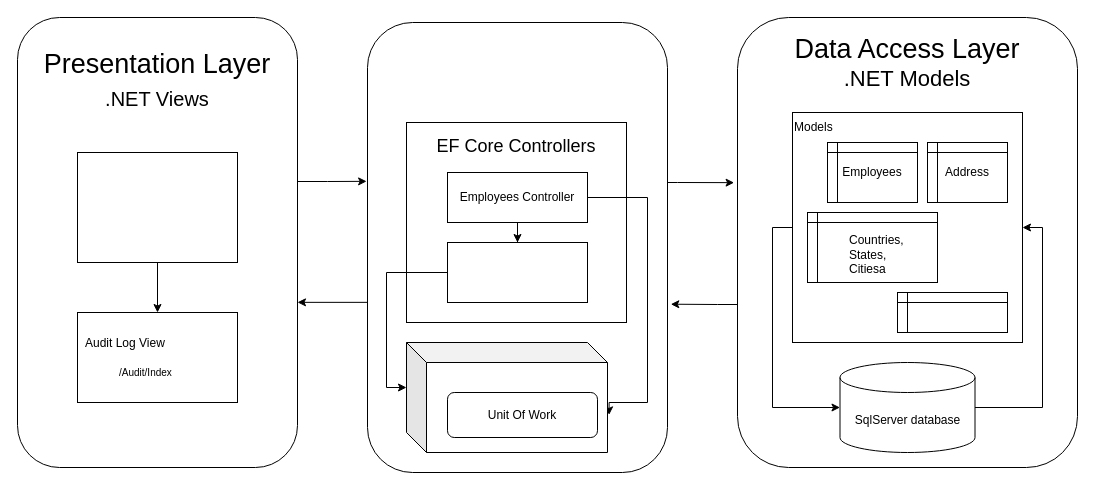
The diagram is 1095 pixels wide and 490 high, and some of its shapes have lost their labels. Here are the shapes that lost their labels. From the top down, the box of each, then its label:
(76, 152, 238, 262): Employee Views /Index /Employees/Create /Employees/Update /Employees/Delete
(366, 22, 668, 472): Application Layer .NET Controller
(446, 242, 588, 302): Audit Logs Controller
(896, 292, 1008, 332): Events
(406, 342, 608, 452): Repository Pattern
